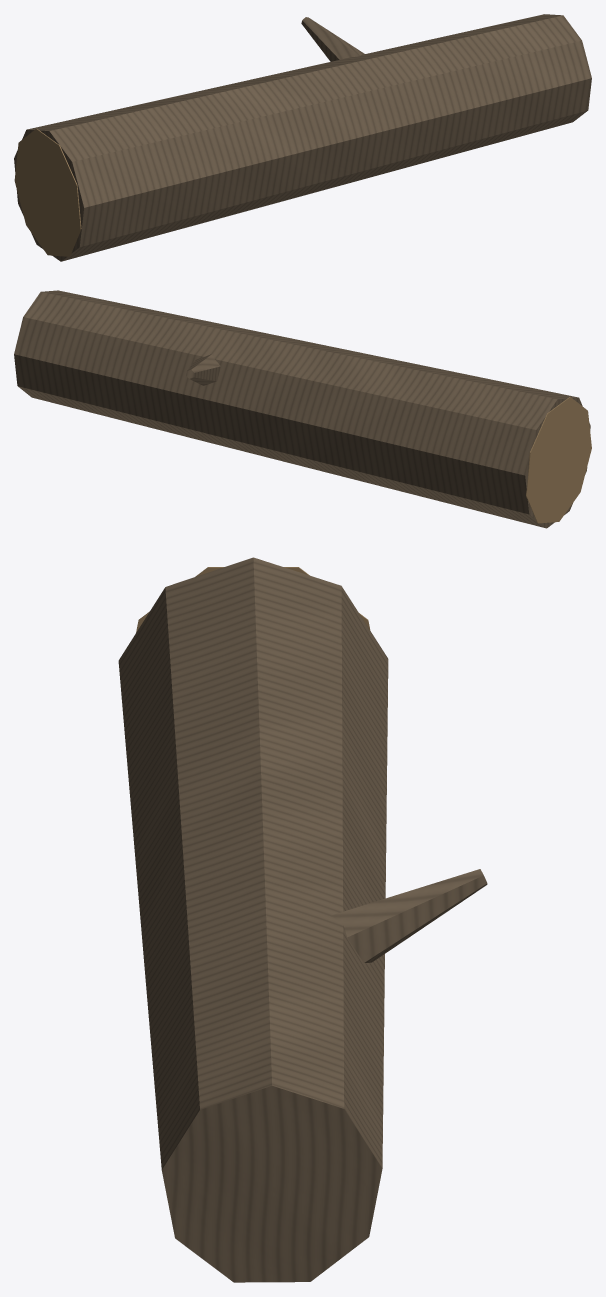
File: fallen_log.glb
3 renders of one model, top to bottom at view 1: azimuth 30°, elevation 25°; view 2: azimuth 150°, elevation 25°; view 3: azimuth 270°, elevation 25°, orthographic. The views are drawn at different scales.
Visible parts, largest first — view 1: fallen_log; view 2: fallen_log; view 3: fallen_log.
Part boxes in pixels (x1,y1,x2,y2): fallen_log: (14,14,591,261); fallen_log: (14,290,591,528); fallen_log: (118,557,487,1282).
Size of the model in its own units: 1.91 by 0.433 by 0.5923.
Materials: 2 (1 with a texture image).
